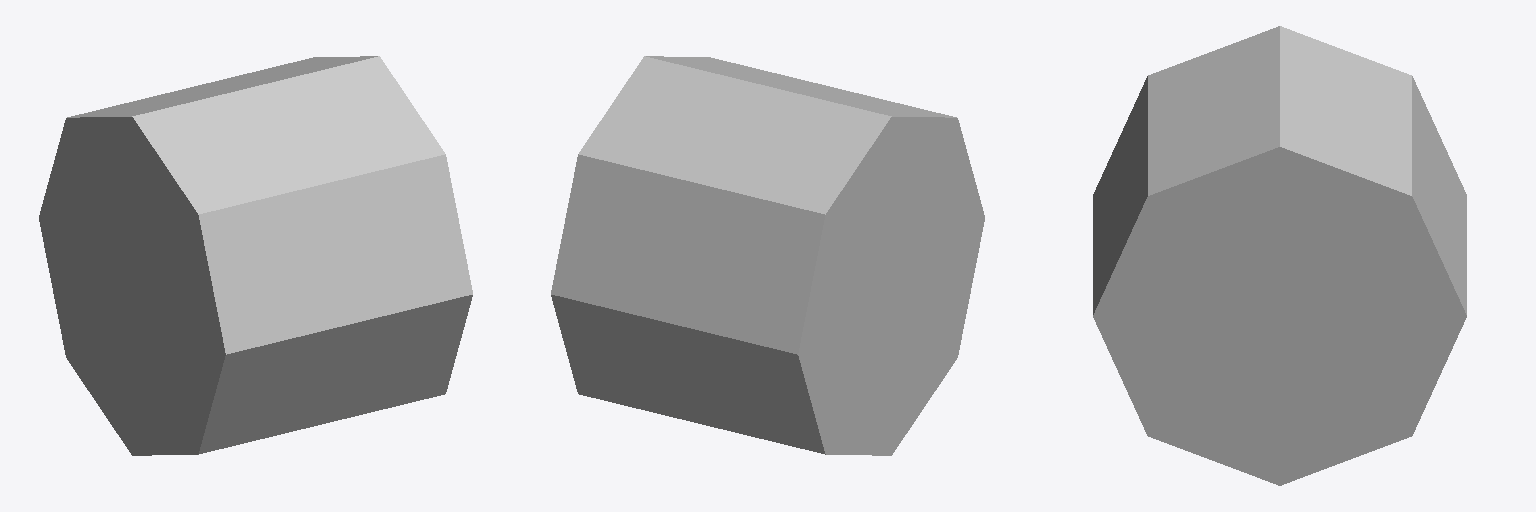
Rendered from WheelRearR.obj.
3 renders of one model, left to right at view 1: azimuth 30°, elevation 25°; view 2: azimuth 150°, elevation 25°; view 3: azimuth 270°, elevation 25°, orthographic.
Visible parts, largest first — view 1: WheelRearR; view 2: WheelRearR; view 3: WheelRearR.
Boxes of the visible parts, <box> form: WheelRearR: <box>39,56,472,455</box>; WheelRearR: <box>551,56,984,455</box>; WheelRearR: <box>1093,26,1466,485</box>.
Size of the model in its own units: 0.928 by 1.22 by 1.22.